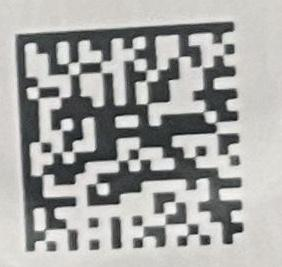datamatrix: (16, 22, 245, 253)
